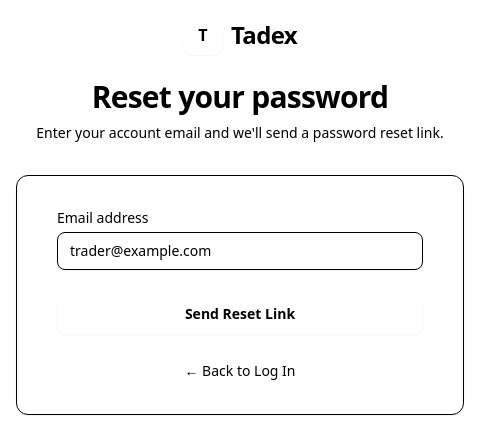
Test: ForgotPasswordPage › validates required and format of email
Click the button "Send Reset Link" at [240, 314], box [57,294,423,334]
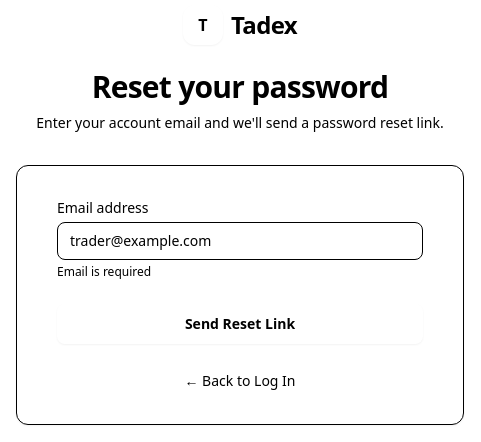
expect the text "Email is required" is shown: met, box [57,263,151,280]
Type "invalid-email" into the field labelled "Email address" at [240, 241], box [57,222,423,260]
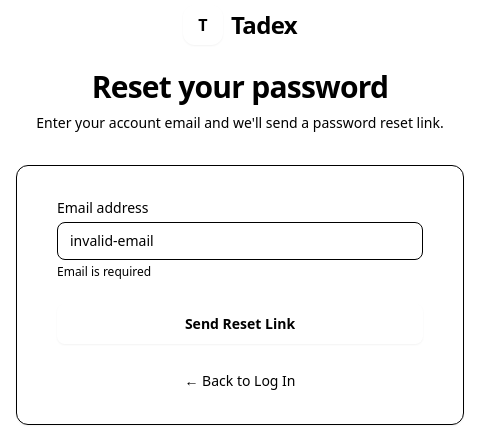
Click the button "Send Reset Link" at [240, 324], box [57,304,423,344]
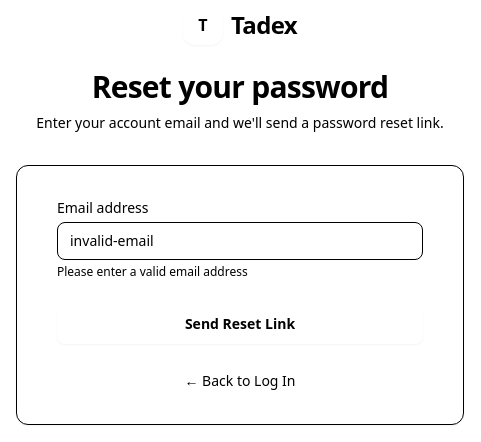
expect the text "Please enter a valid email address" is shown: met, box [57,263,248,280]
